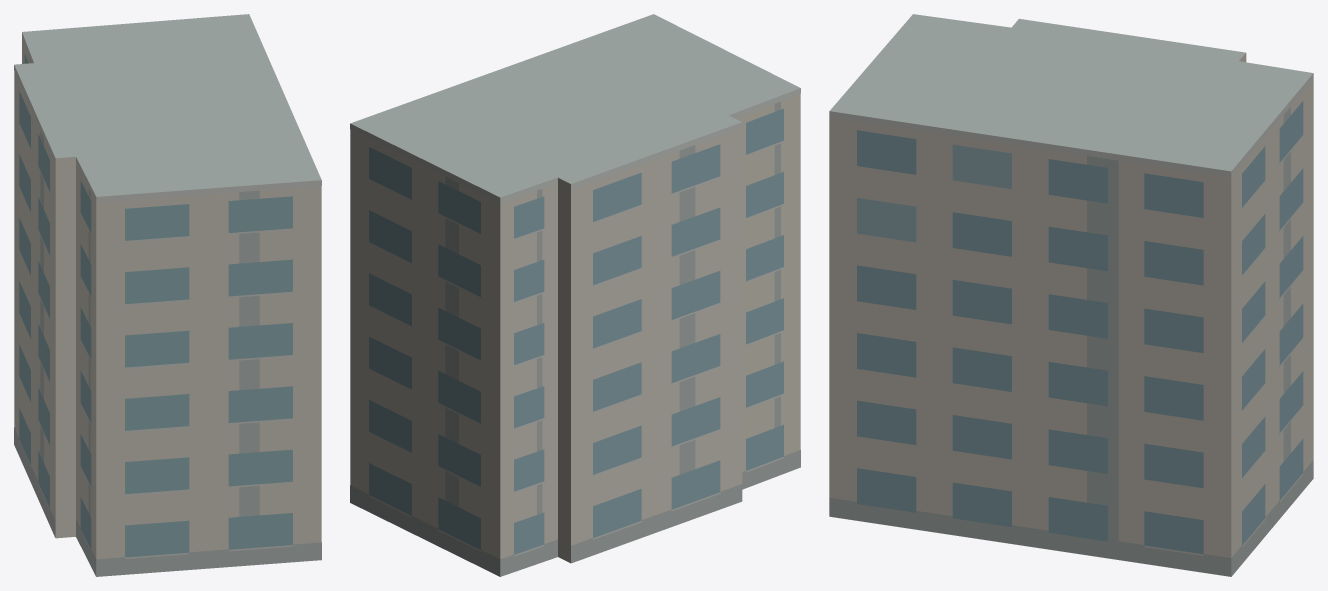
File: survey-upis-32882611.glb
The picture shows the model from 3 angles, left to right: view 1: azimuth 30°, elevation 25°; view 2: azimuth 150°, elevation 25°; view 3: azimuth 270°, elevation 25°; orthographic projection. The views are drawn at different scales.
Parts seen in each view (by area): view 1: survey-upis-32882611.tmp; view 2: survey-upis-32882611.tmp; view 3: survey-upis-32882611.tmp.
Boxes of the visible parts, x1,y1,x2,y2 form: survey-upis-32882611.tmp: [14, 14, 321, 576]; survey-upis-32882611.tmp: [350, 14, 800, 576]; survey-upis-32882611.tmp: [829, 14, 1313, 576].
Bounding box in the file's own units: 13.33 × 16 × 17.32.
